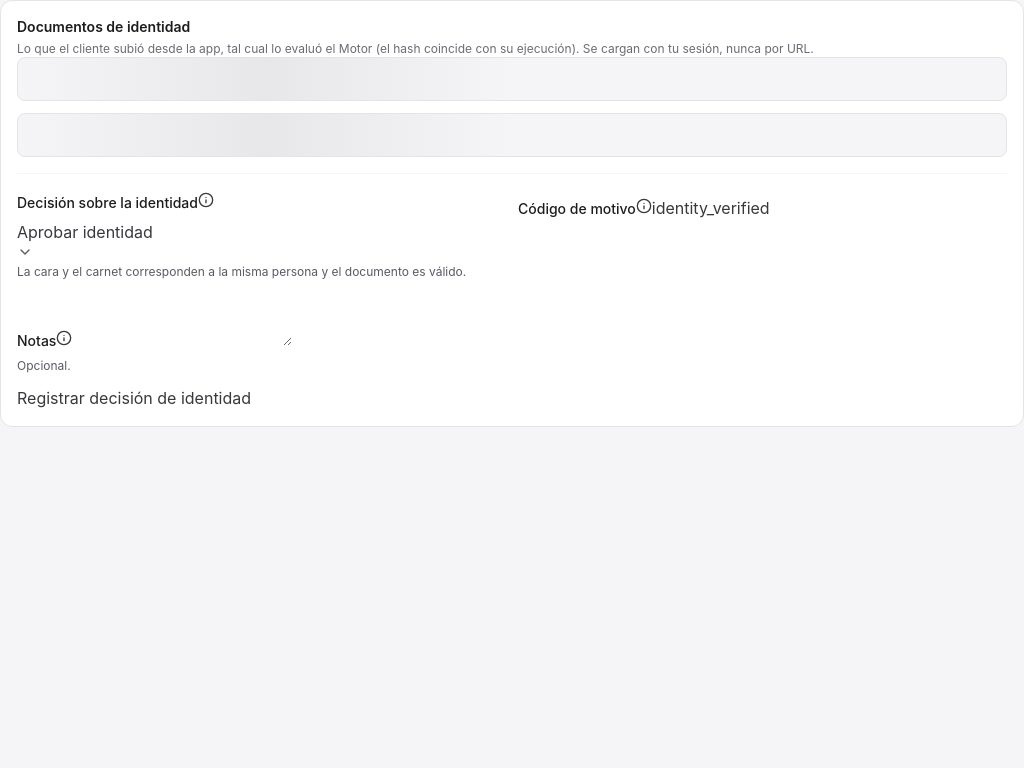
IdentityEvidencePanel › rechazar exige notas: el botón no se ofrece sin ellas
This screenshot has width=1024, height=768.
Click the dropdown with test id "identity-decision". click: (85, 240)
box: [17,220,153,260]
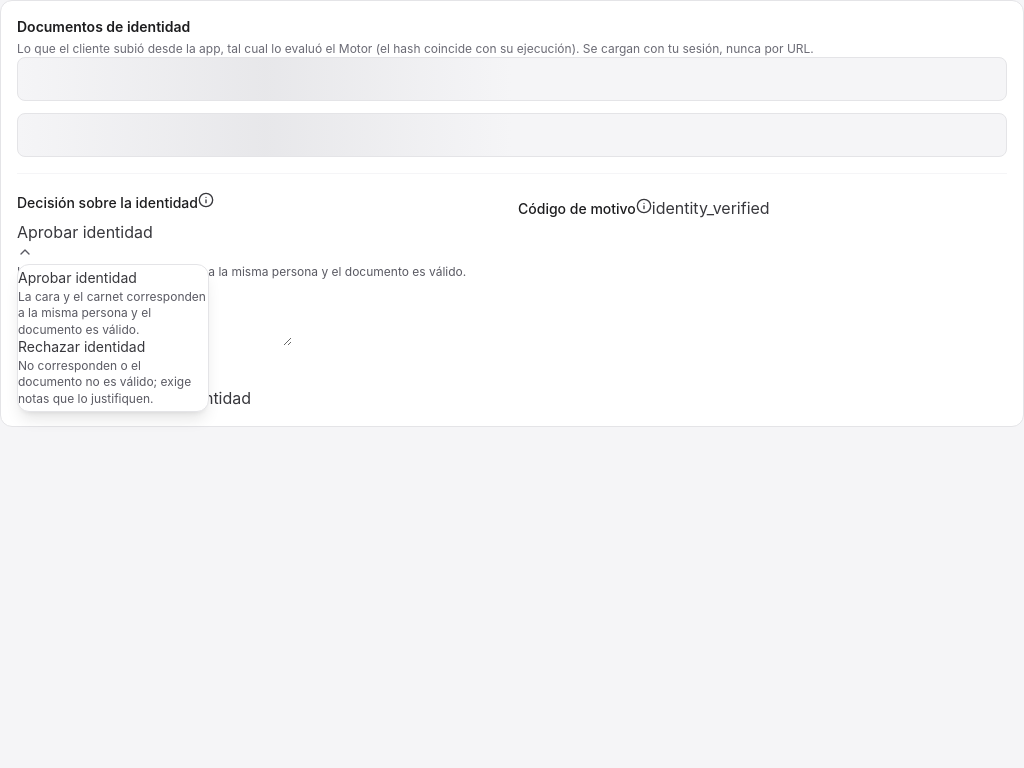
Click the option with test id "identity-decision-option-reject". click: (113, 372)
box: [18,338,208,407]
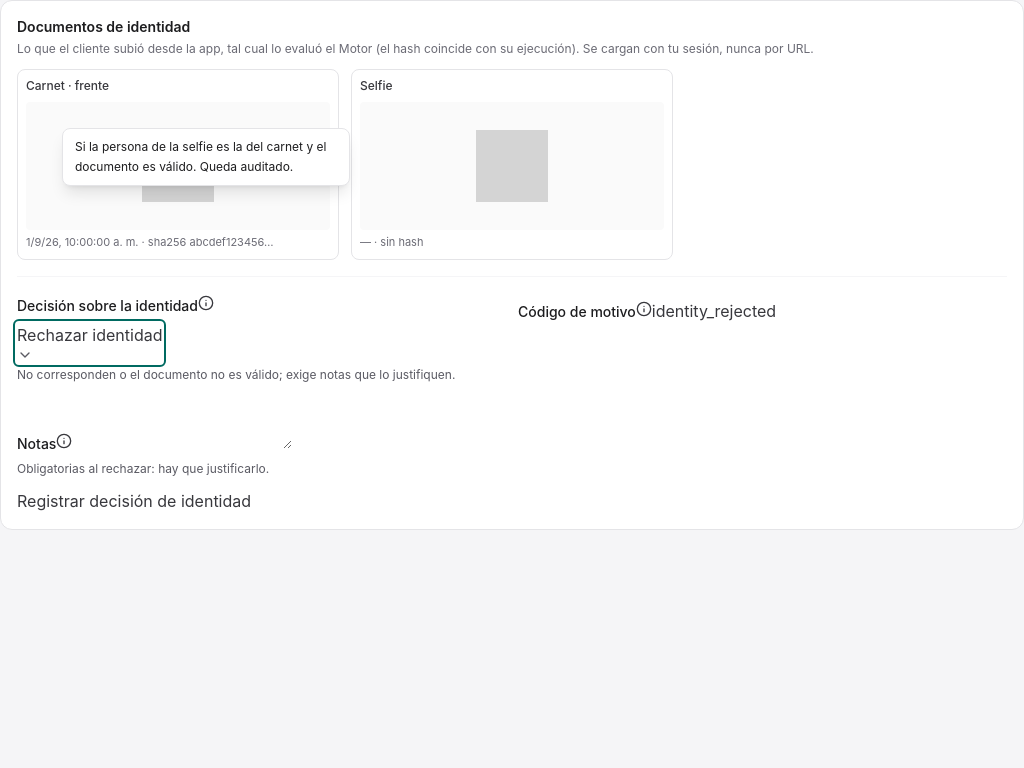
Expected: the button "Registrar decisión de identidad" is disabled, [17,488,251,512]
